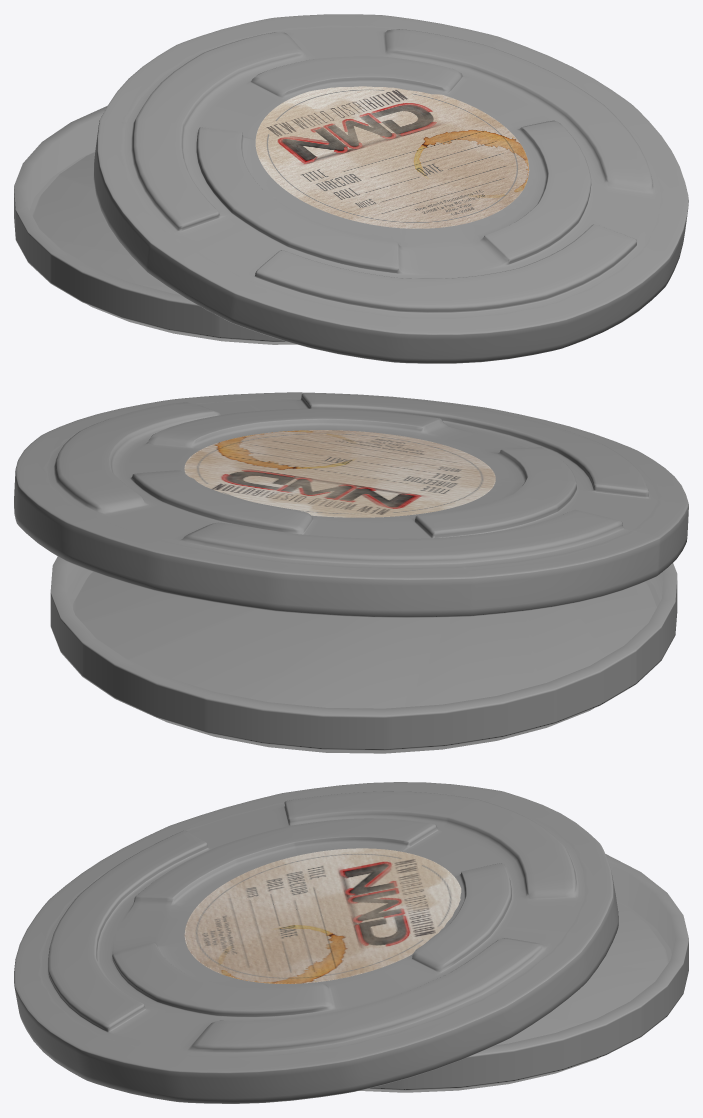
The model's file is bobine.fbx.
The picture shows the model from 3 angles, top to bottom: view 1: azimuth 30°, elevation 25°; view 2: azimuth 150°, elevation 25°; view 3: azimuth 270°, elevation 25°; orthographic projection. The views are drawn at different scales.
Parts seen in each view (by area): view 1: bobine, bobine_etiquette; view 2: bobine, bobine_etiquette; view 3: bobine, bobine_etiquette.
Boxes of the visible parts, x1=… form: bobine: x1=14, y1=14, x2=688, y2=363; bobine_etiquette: x1=255, y1=86, x2=529, y2=228; bobine: x1=14, y1=392, x2=688, y2=753; bobine_etiquette: x1=184, y1=430, x2=495, y2=517; bobine: x1=14, y1=782, x2=688, y2=1103; bobine_etiquette: x1=184, y1=848, x2=461, y2=983.
Size of the model in its own units: 226 by 51.85 by 234.
2 materials, 1 textured.
